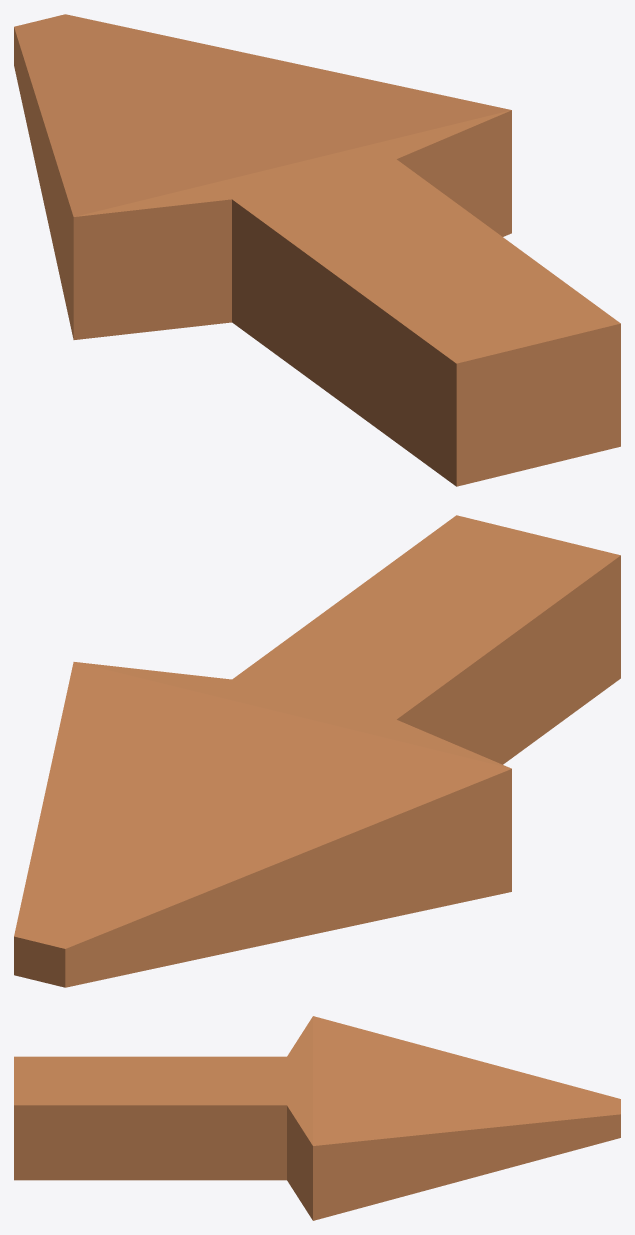
File: arrow.dae
3 views of the same model, one above another, from view 1: azimuth 30°, elevation 25°; view 2: azimuth 150°, elevation 25°; view 3: azimuth 270°, elevation 25° (orthographic). The views are drawn at different scales.
Visible parts, largest first — view 1: Cube; view 2: Cube; view 3: Cube.
Boxes of the visible parts, x1=… form: Cube: x1=14, y1=14, x2=620, y2=486; Cube: x1=14, y1=515, x2=620, y2=987; Cube: x1=14, y1=1016, x2=620, y2=1220.
Bounding box in the file's own units: 0.312 × 0.6151 × 0.0837.
